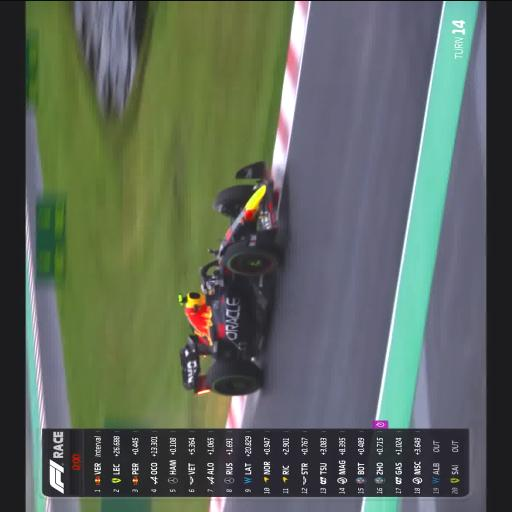f1_car: (179, 161, 282, 395)
